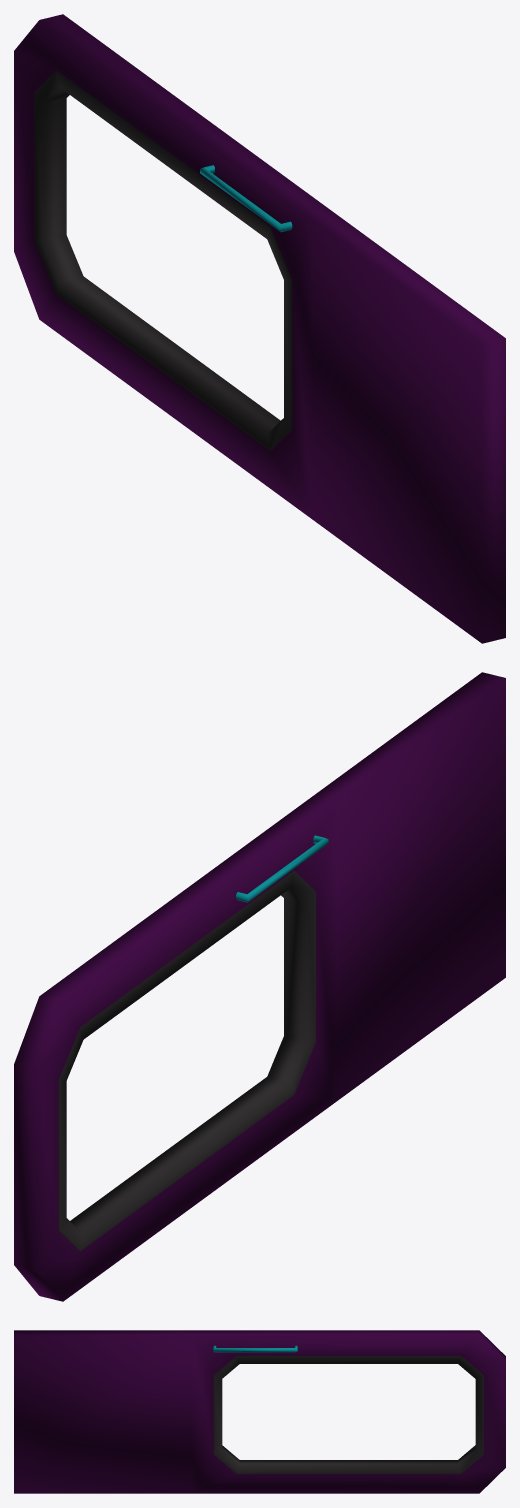
Rendered from Subway_01_Door_Single.fbx.
3 renders of one model, top to bottom at view 1: azimuth 30°, elevation 25°; view 2: azimuth 150°, elevation 25°; view 3: azimuth 270°, elevation 25°, orthographic. The views are drawn at different scales.
Parts seen in each view (by area): view 1: Subway_01_DoorSingle_low; view 2: Subway_01_DoorSingle_low; view 3: Subway_01_DoorSingle_low.
Part boxes in pixels (x1,y1,x2,y2): Subway_01_DoorSingle_low: (14,14,505,643); Subway_01_DoorSingle_low: (14,672,505,1301); Subway_01_DoorSingle_low: (14,1330,505,1493).
Size of the model in its own units: 0.1225 by 0.721 by 2.04.
